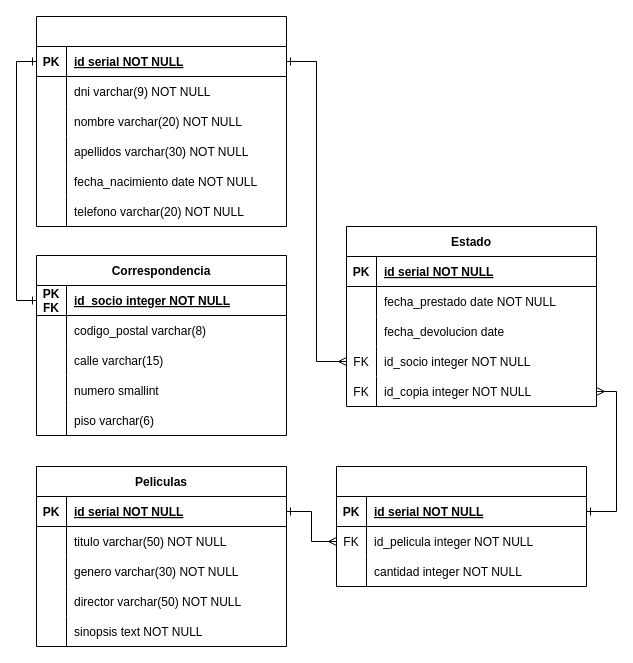
This 633x663 diagram has some shape labels left out. Here are the shapes that lost their labels. From the top down, the box of each, then its label:
(36, 16, 286, 226): Socio
(336, 466, 586, 586): Copia
